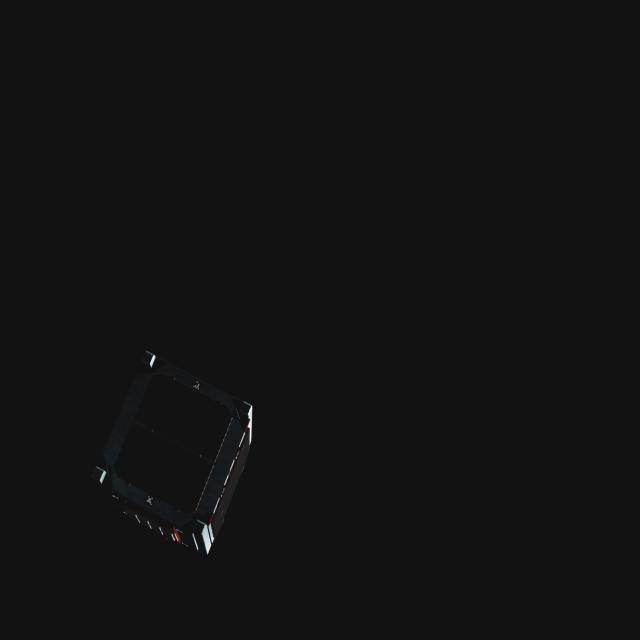satellite: (89, 337, 272, 562)
